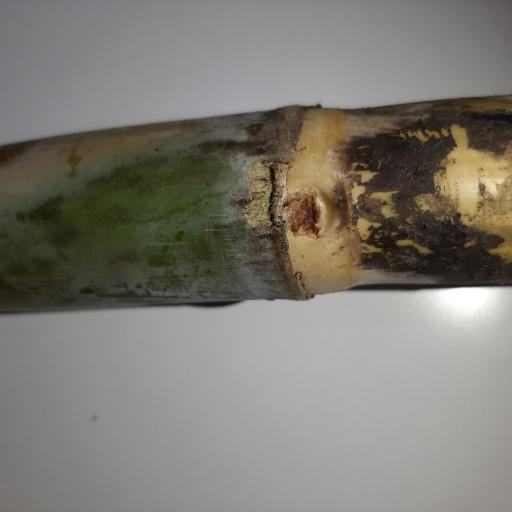Damage_Bud: (285, 192, 332, 234)
